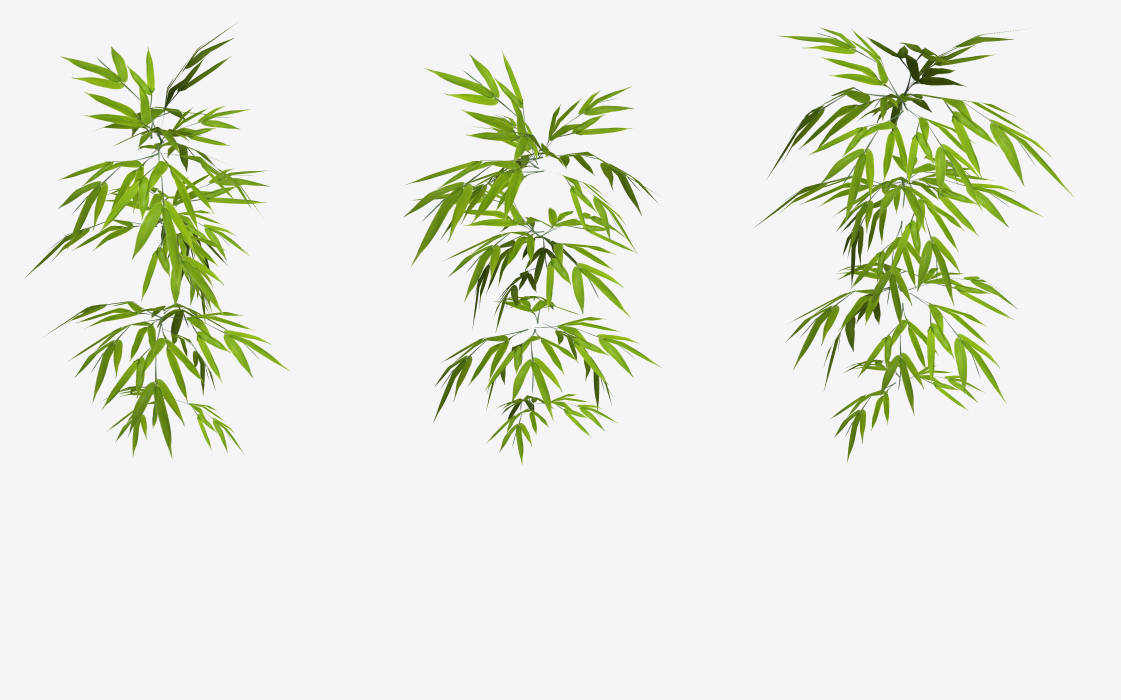
The model's file is bigBambooTree.glb.
3 renders of one model, left to right at view 1: azimuth 30°, elevation 25°; view 2: azimuth 150°, elevation 25°; view 3: azimuth 270°, elevation 25°, orthographic. The views are drawn at different scales.
Visible parts, largest first — view 1: bamboo tree 2; view 2: bamboo tree 2; view 3: bamboo tree 2.
Part boxes in pixels (bbox=[...]): bamboo tree 2: bbox=[25, 24, 290, 458]; bamboo tree 2: bbox=[403, 50, 661, 464]; bamboo tree 2: bbox=[754, 27, 1074, 462].
Size of the model in its own units: 2.47 by 5.61 by 2.72.
2 materials, 2 textured.
